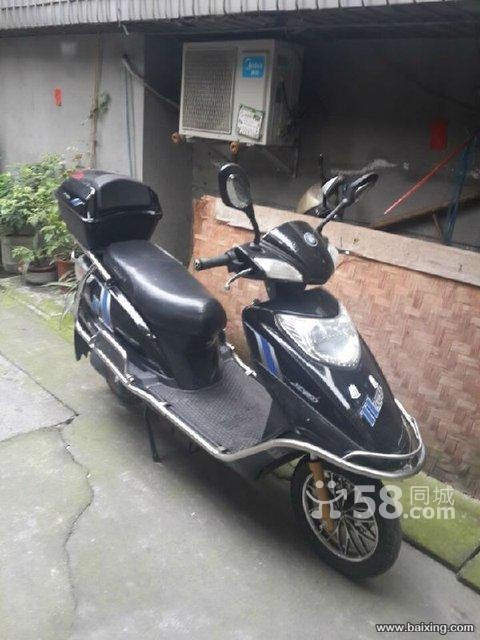电动车: (49, 141, 442, 596)
